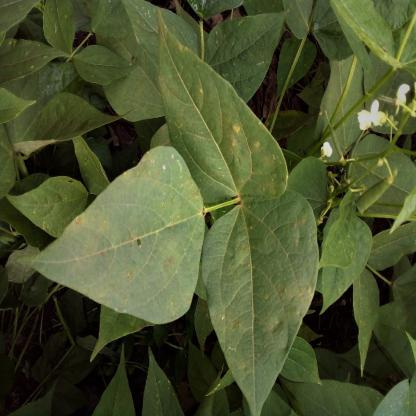Beans_Rust: (18, 146, 207, 327), (200, 195, 319, 416), (162, 15, 289, 204)
